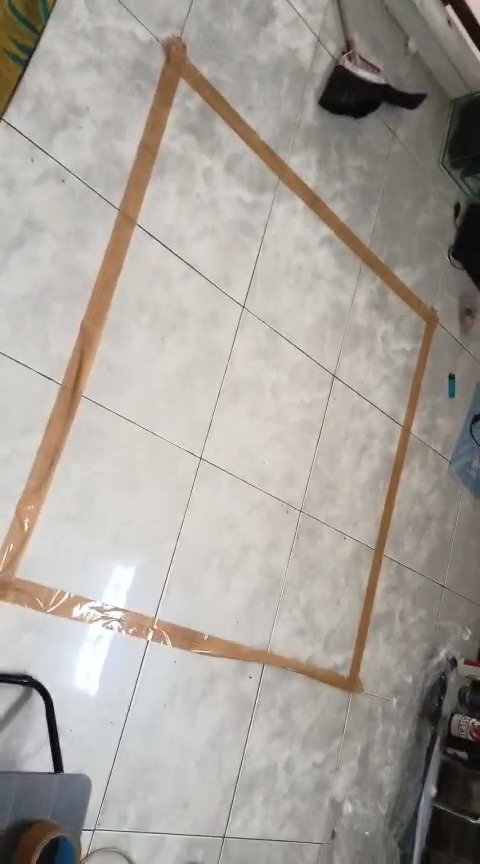floor marking: (0, 37, 437, 692)
